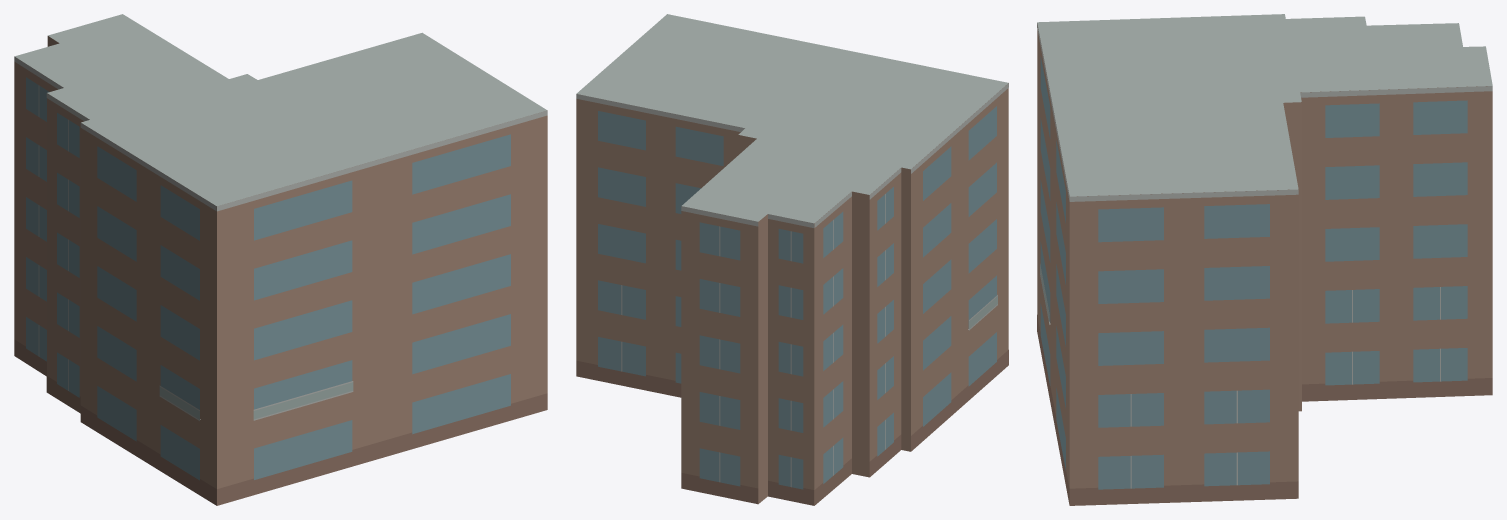
The model's file is survey-upis-32627110.glb.
3 renders of one model, left to right at view 1: azimuth 30°, elevation 25°; view 2: azimuth 150°, elevation 25°; view 3: azimuth 270°, elevation 25°, orthographic. The views are drawn at different scales.
Parts seen in each view (by area): view 1: survey-upis-32627110.tmp; view 2: survey-upis-32627110.tmp; view 3: survey-upis-32627110.tmp.
Boxes of the visible parts, x1,y1,x2,y2 form: survey-upis-32627110.tmp: [14, 14, 547, 505]; survey-upis-32627110.tmp: [576, 14, 1008, 505]; survey-upis-32627110.tmp: [1037, 14, 1492, 505].
Bounding box in the file's own units: 18.06 × 14.25 × 19.04.
